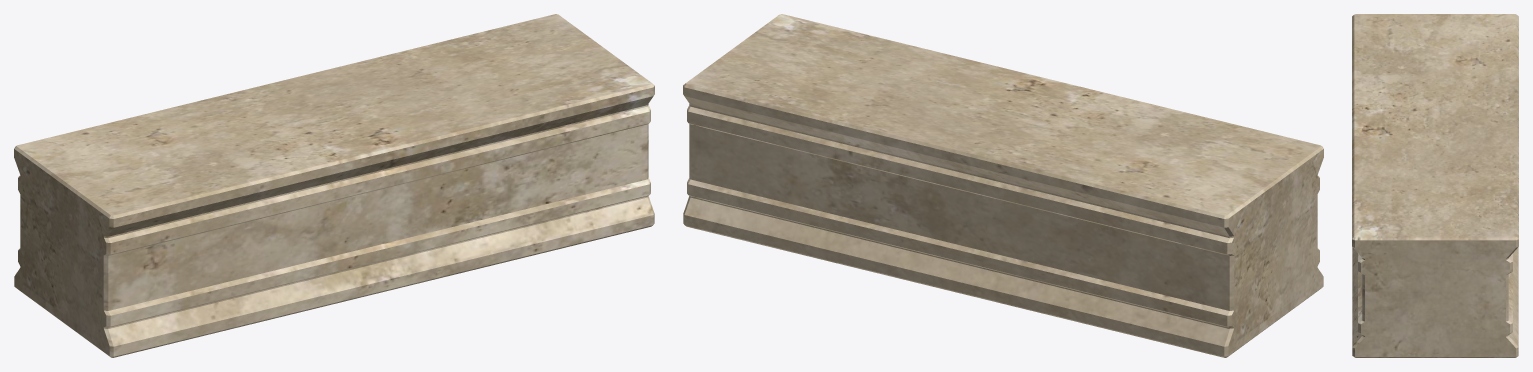
Rendered from decorative_brick-long.FBX.
The picture shows the model from 3 angles, left to right: view 1: azimuth 30°, elevation 25°; view 2: azimuth 150°, elevation 25°; view 3: azimuth 270°, elevation 25°; orthographic projection. The views are drawn at different scales.
Visible parts, largest first — view 1: Object138; view 2: Object138; view 3: Object138.
Part boxes in pixels (x1=…): Object138: x1=14, y1=14, x2=654, y2=357; Object138: x1=683, y1=14, x2=1323, y2=357; Object138: x1=1352, y1=14, x2=1518, y2=357.
Bounding box in the file's own units: 207 × 51.69 × 64.79.
